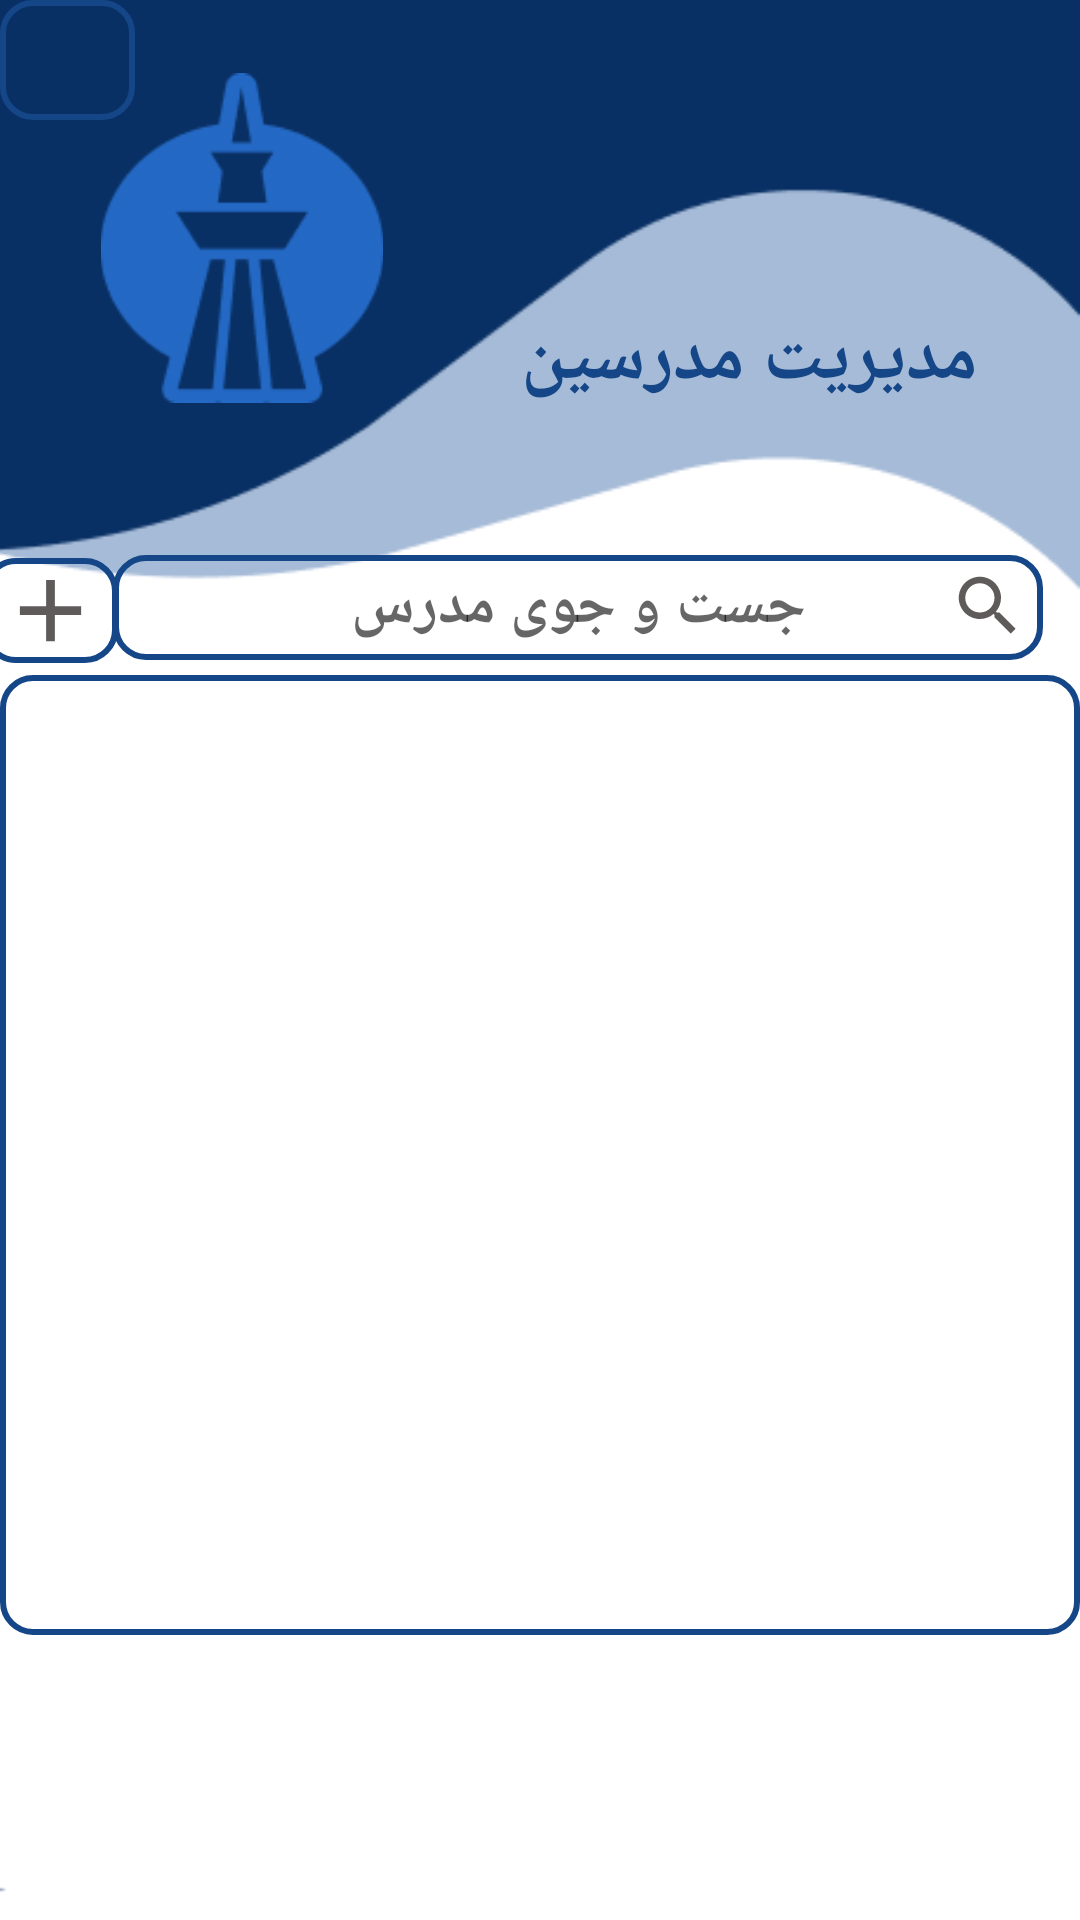

Icons on this 1080px x 1920px Android screen, each with the point to tap as (x,y):
search: (987,605)
